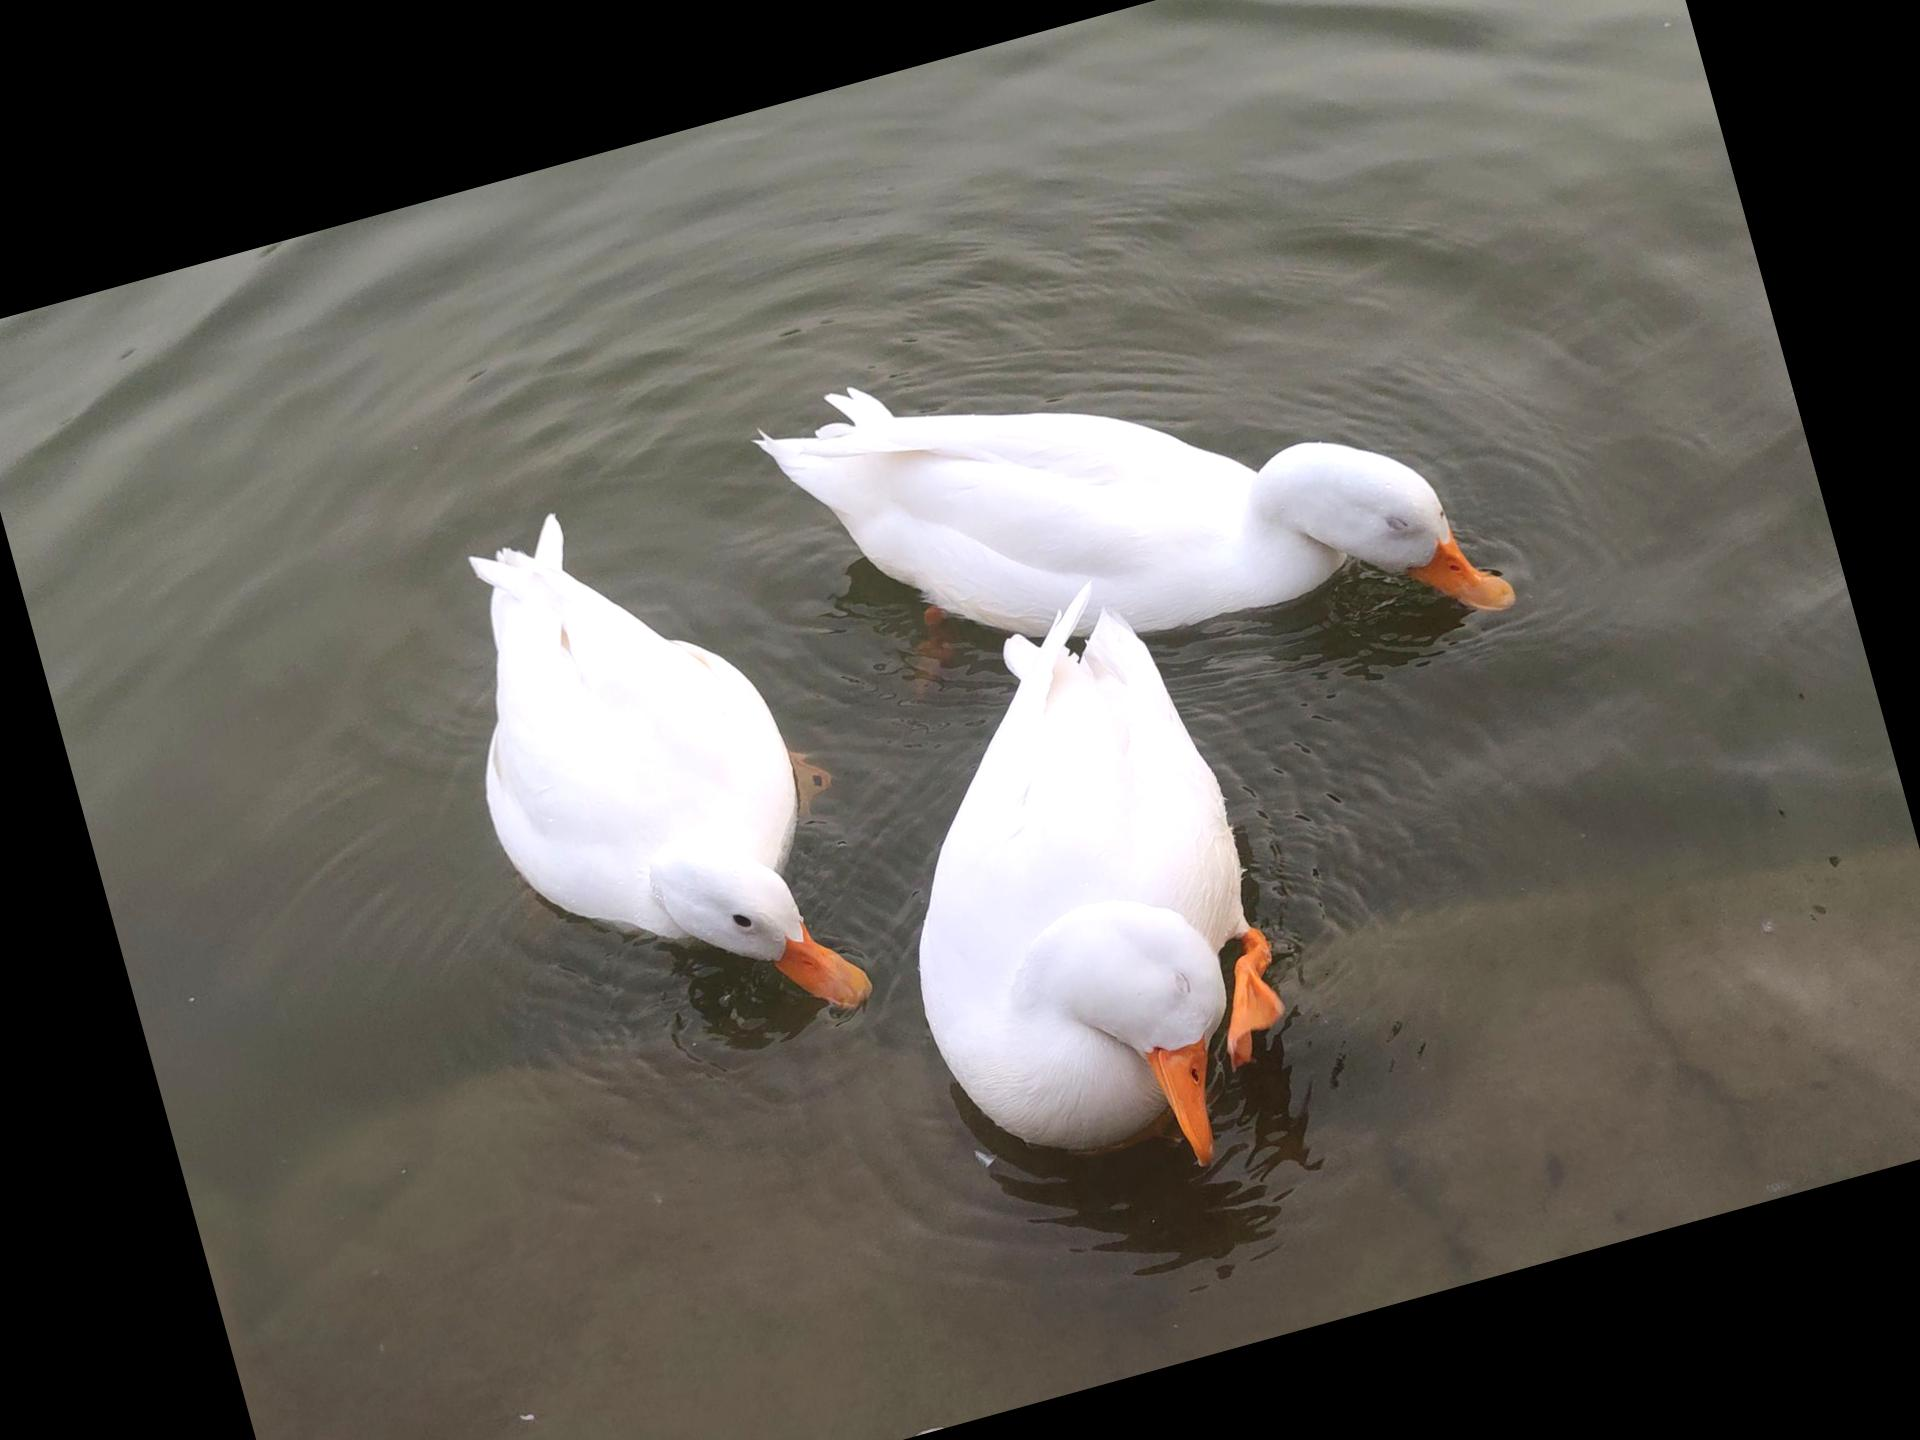duck: (718, 200, 1538, 812), (801, 545, 1349, 1239), (379, 442, 887, 1101)
